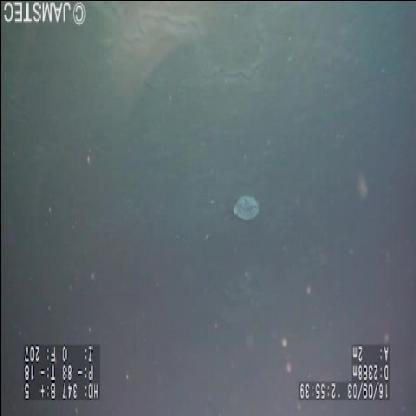Rác: (221, 183, 263, 233)
